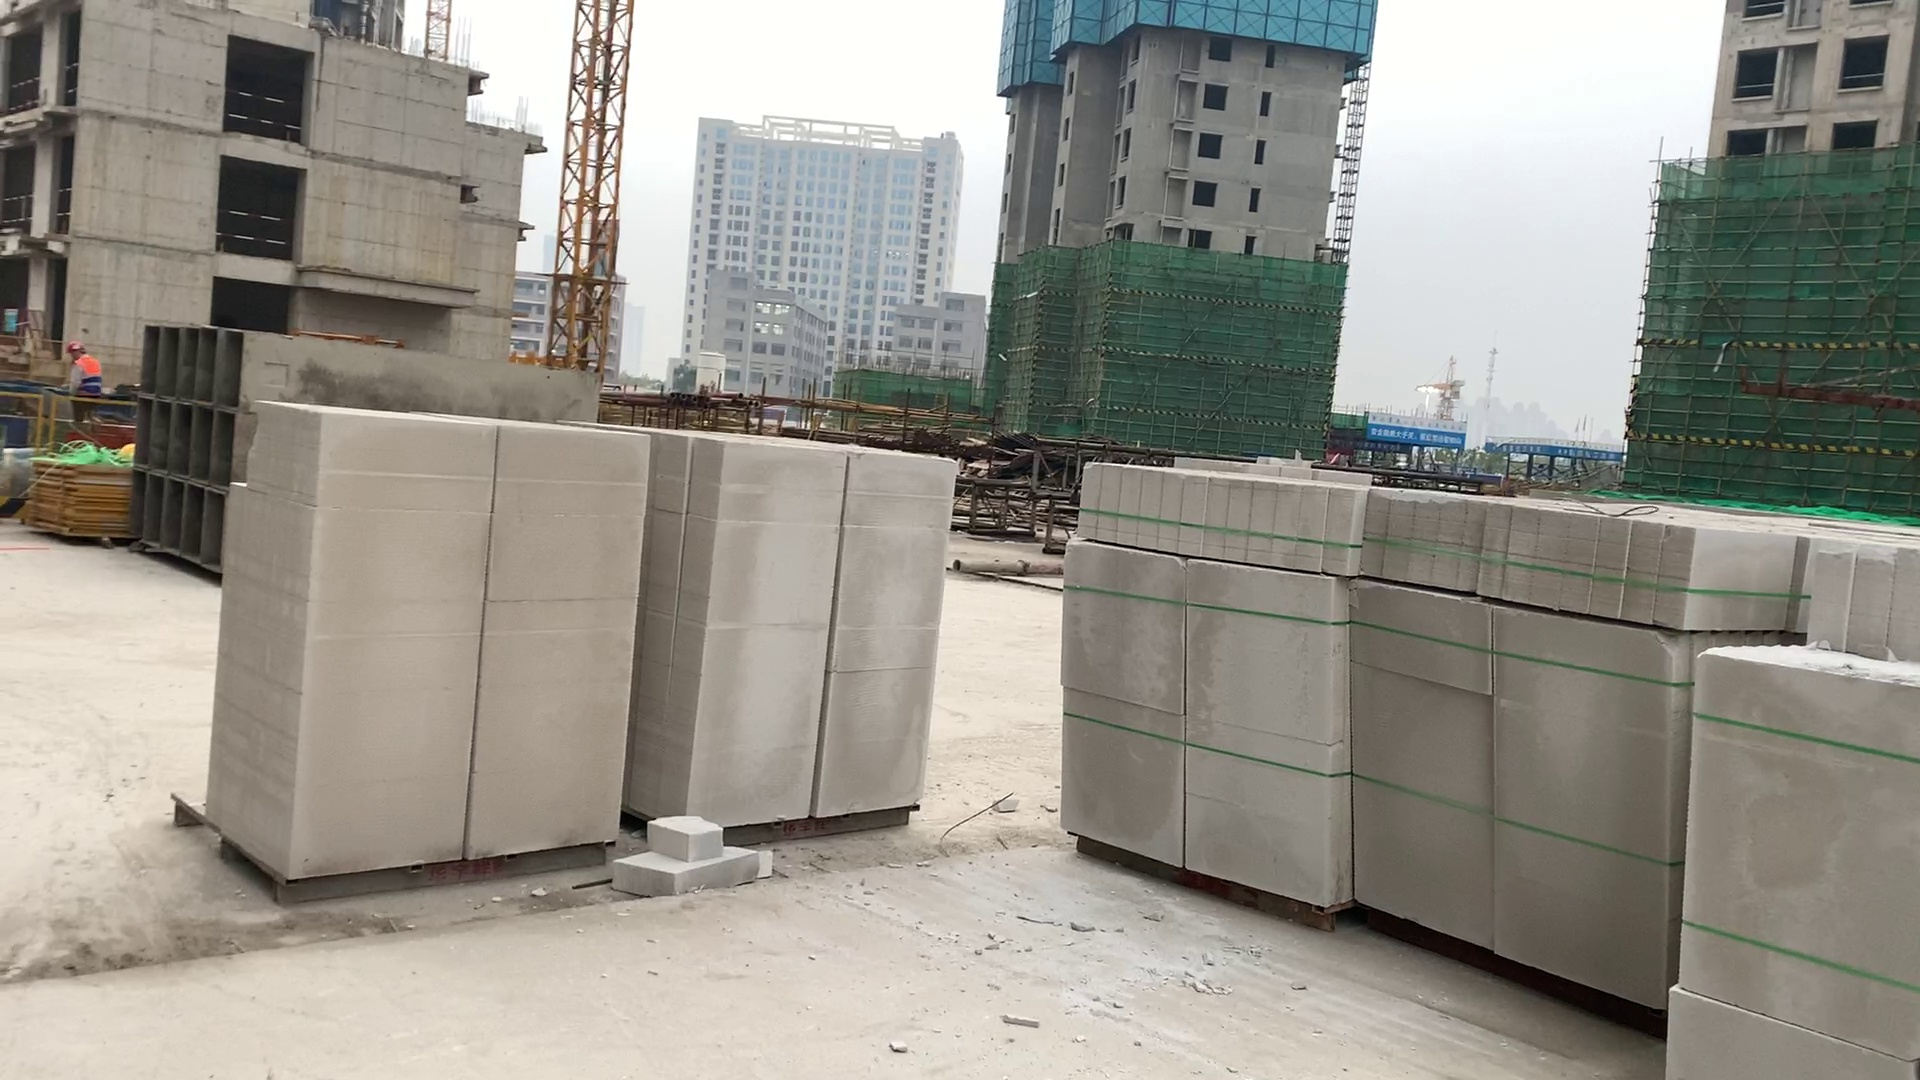brickwork: (216, 400, 630, 887), (1357, 492, 1673, 1010), (1673, 537, 1915, 1080), (1058, 465, 1346, 910), (688, 439, 953, 837)
